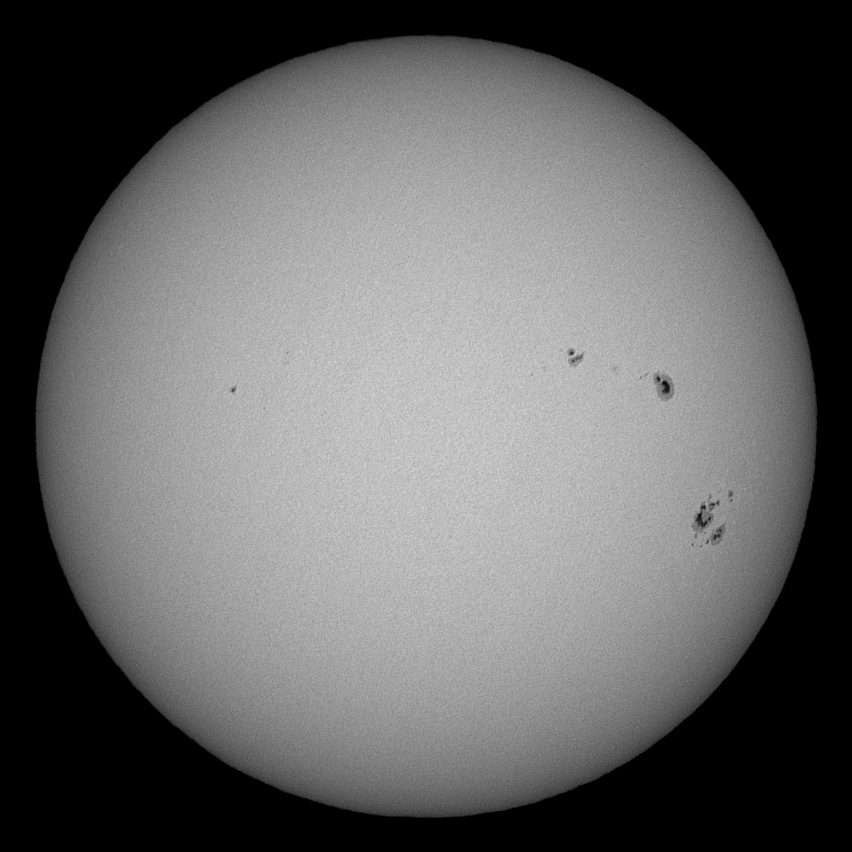sunspot: (691, 488, 735, 547), (648, 366, 677, 402), (564, 344, 588, 369), (225, 379, 241, 394)
